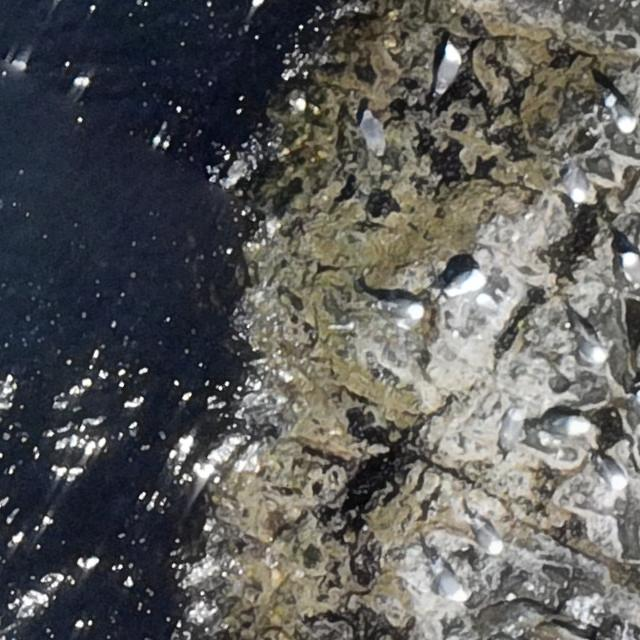umineko: (572, 314, 611, 366), (600, 87, 636, 134), (445, 264, 488, 302), (432, 558, 468, 602), (499, 405, 529, 456), (598, 451, 630, 491), (543, 416, 590, 440), (436, 47, 460, 90), (570, 160, 589, 203), (384, 300, 424, 320), (363, 114, 384, 150), (476, 526, 500, 552), (621, 253, 639, 283)
